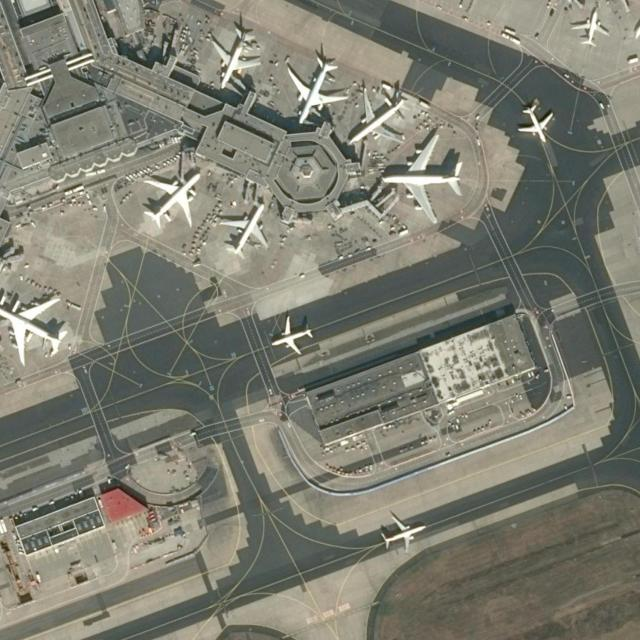Aircraft: (379, 127, 461, 225), (380, 132, 464, 224), (0, 292, 70, 365), (0, 295, 68, 365), (284, 51, 348, 125), (286, 53, 348, 125), (348, 83, 410, 148), (139, 169, 201, 231), (346, 86, 408, 148), (141, 169, 203, 229), (207, 24, 261, 88), (209, 26, 261, 90), (217, 201, 269, 259), (218, 199, 268, 259), (379, 511, 427, 553), (378, 512, 426, 554), (268, 313, 313, 356), (269, 313, 314, 355), (571, 6, 610, 48), (571, 5, 609, 47), (517, 100, 555, 141), (517, 102, 554, 144)
